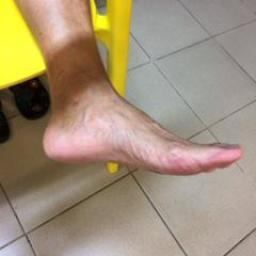Medial View -Left Foot-: (20, 24, 250, 195)
